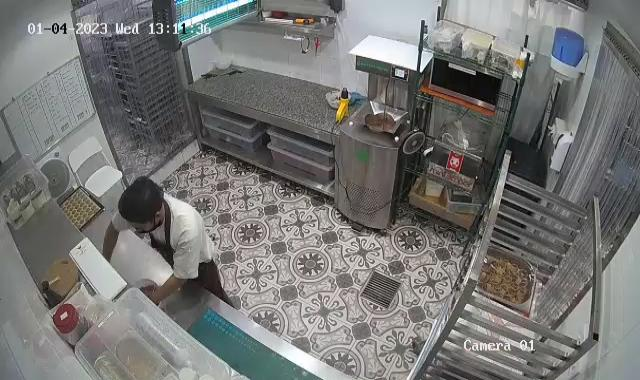no_hairnet: (119, 176, 166, 230)
